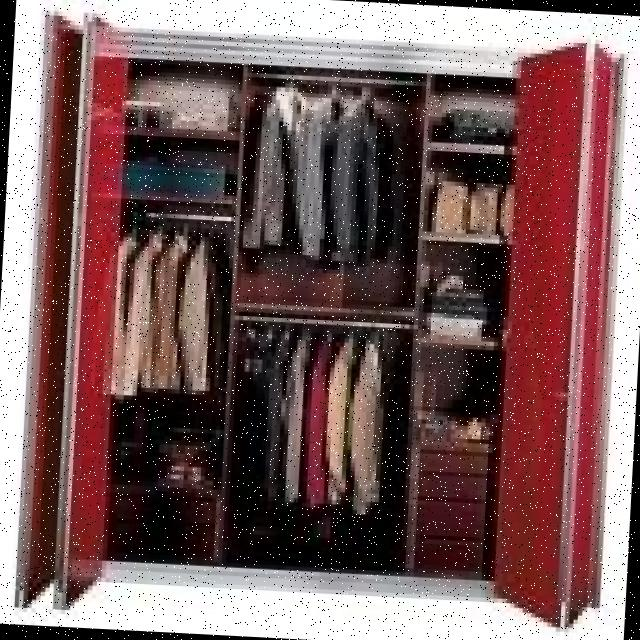Closet: (3, 0, 638, 640)
